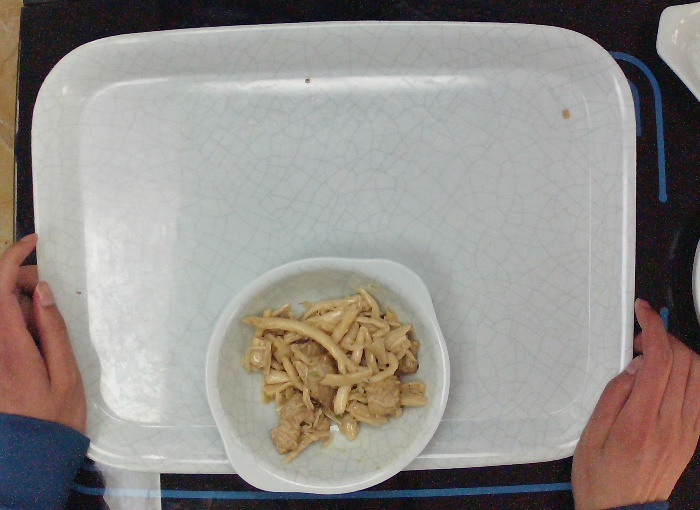JYsf-Shuang_Er_Wan: (200, 252, 459, 496)
